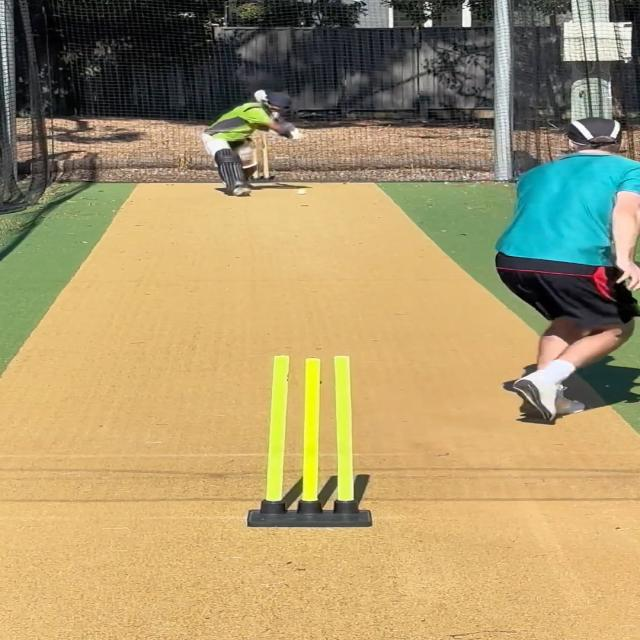ball: (293, 187, 307, 195)
stump: (245, 352, 372, 527)
